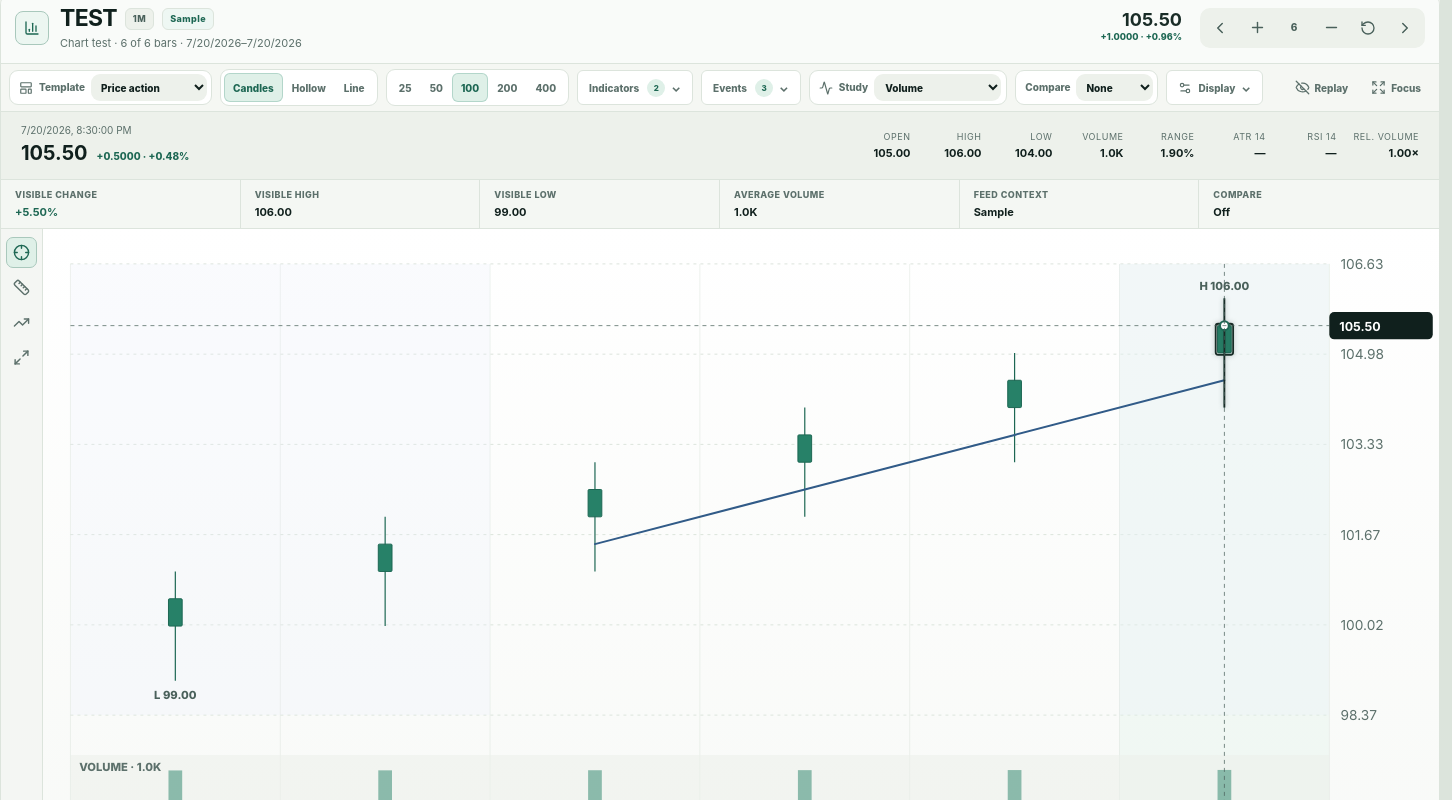
Scenario: MarketChart › compresses regular-session candles and navigates only plotted bars
Click the button with aria-label "Chart appearance settings" at (1215, 88), box [1166,70,1263,105]
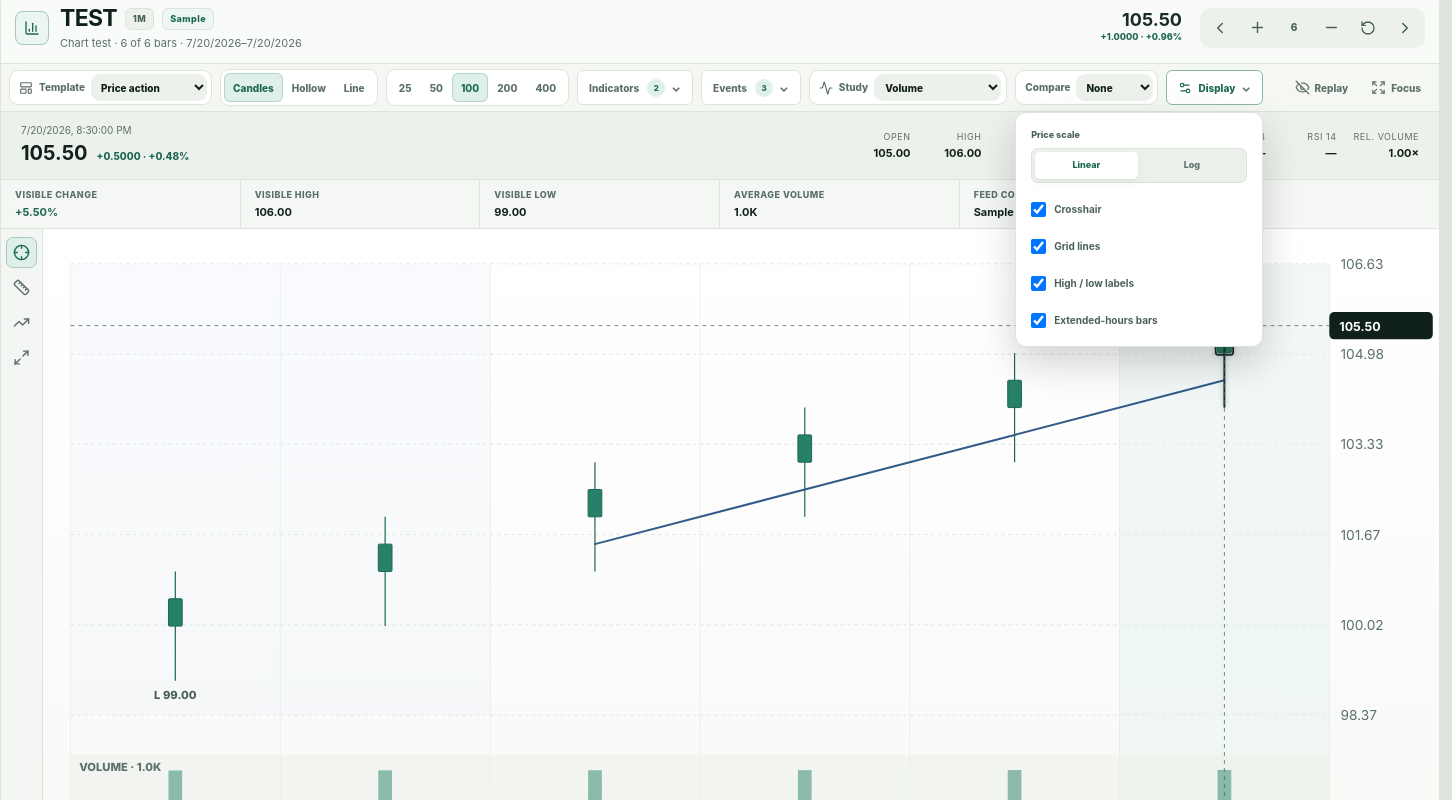
Click the checkbox labelled "Extended-hours bars" at (1039, 321), box [1031,313,1046,328]
(page scrolled)
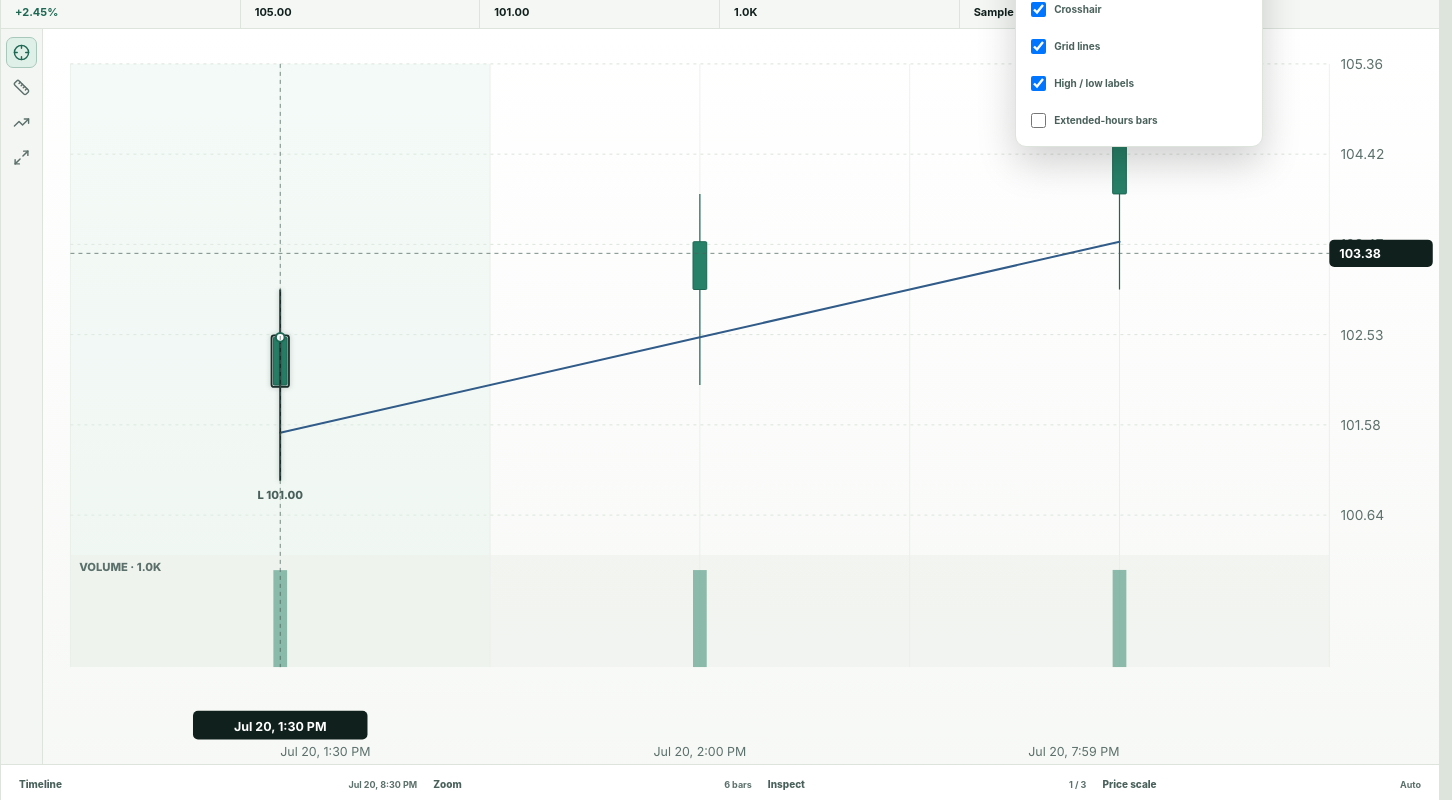
expect the text "1 / 3" is shown: met, box [1069,778,1086,792]
Press ArrowRight in the icon named "TEST interactive candles chart"
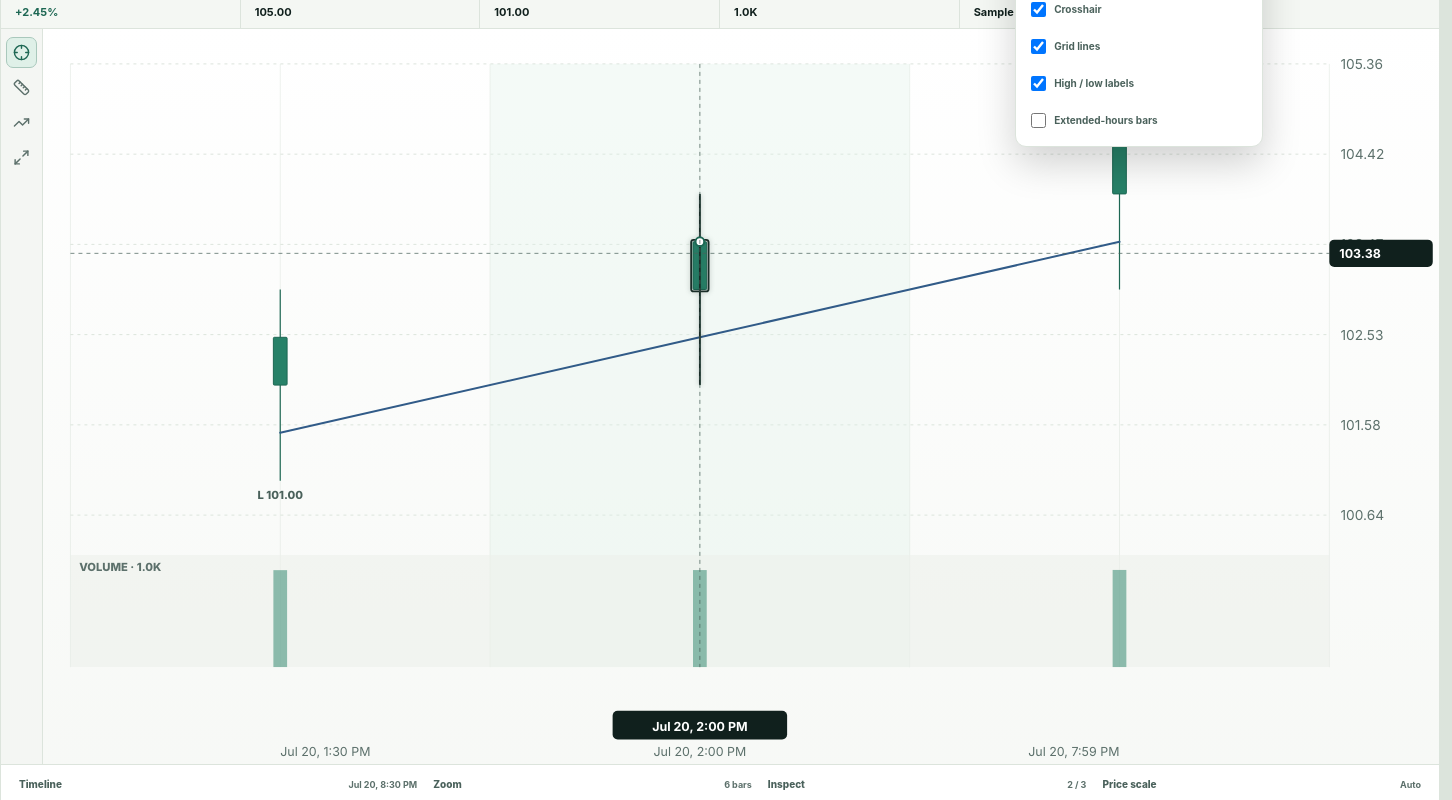
expect the text "2 / 3" is shown: met, box [1067,778,1086,792]
